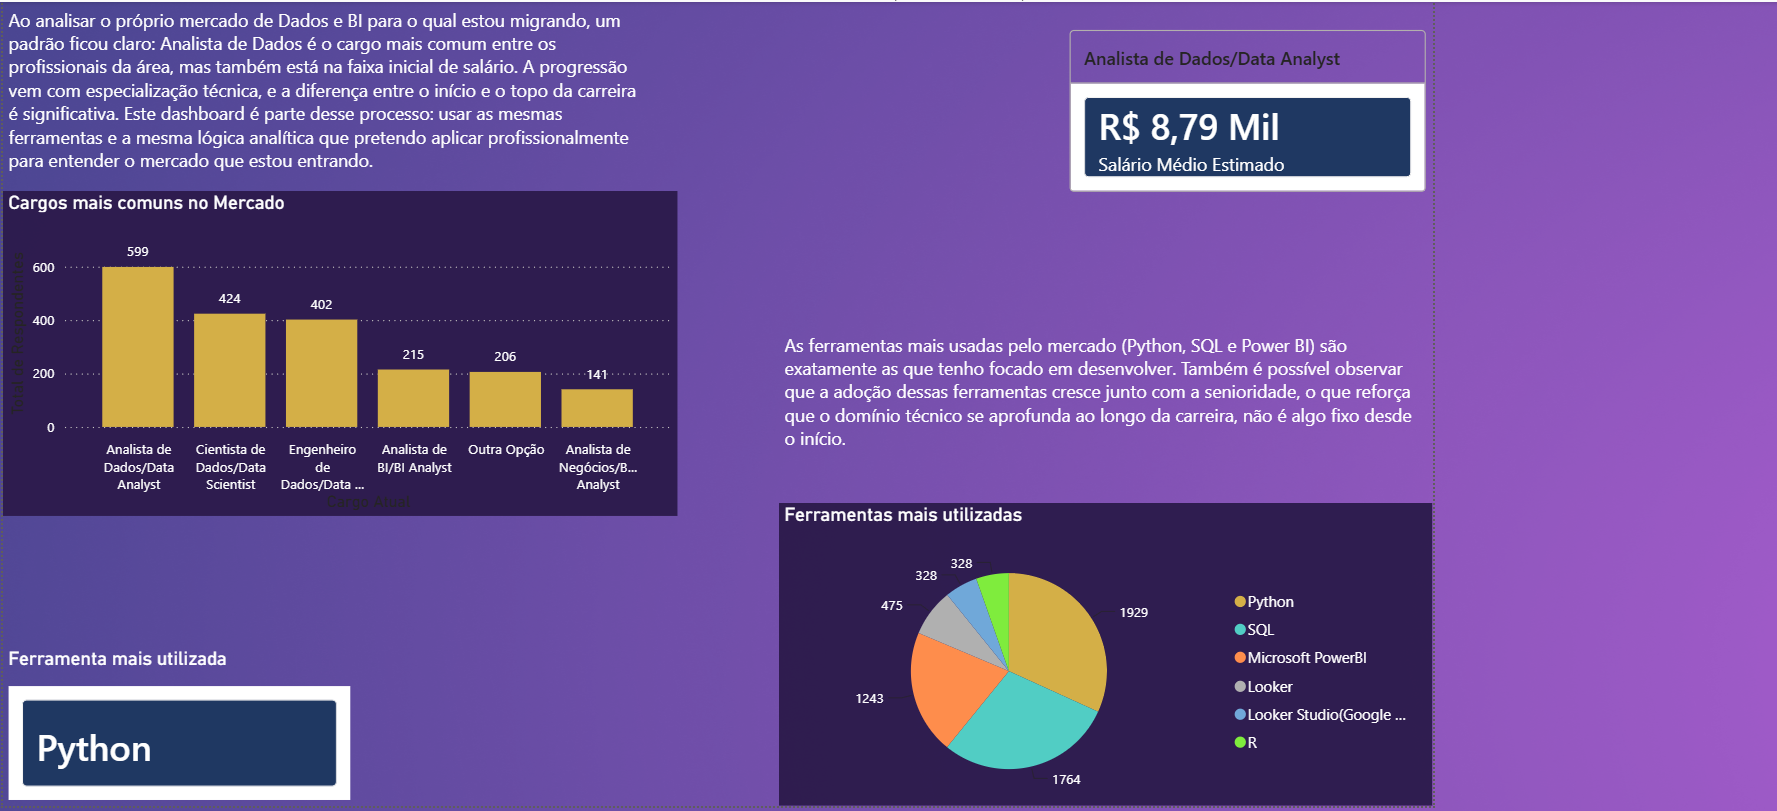

The page's visual inventory and layout, read from the dashboard file:
{"tool":"powerbi","page":{"name":"Insight Pessoal","canvas":[1280,720],"ordinal":3},"visuals":[{"type":"columnChart","title":"Cargos mais comuns no Mercado","fields":{"Y":["_Medidas.Total de Respondentes"],"Category":["Final Dataset - State of Data 2025-2026 - Kaggle.Cargo Atual"]},"box":[0,169,603.9,291.3],"z":0},{"type":"textbox","box":[0,0,584,169],"z":1000},{"type":"cardVisual","fields":{"Rows":["Final Dataset - State of Data 2025-2026 - Kaggle.Cargo Atual"],"Data":["_Medidas.Salário Médio Estimado"]},"box":[950.4,0,329.6,195.6],"z":2000},{"type":"textbox","box":[695.3,291.3,584,169],"z":3000},{"type":"pieChart","title":"Ferramentas mais utilizadas","fields":{"Category":["fato_Ferramentas_Linguagens.Ferramenta de Linguagem"],"Y":["_Medidas.Qtd Usuários da Ferramenta"]},"box":[695.3,448.6,584.7,271.1],"z":4000},{"type":"cardVisual","title":"Ferramenta mais utilizada","fields":{"Data":["Min(fato_Ferramentas_Linguagens.Ferramenta de Linguagem)"]},"box":[0,577.3,316.8,142.5],"z":5000}]}

Visuals, with their boxes on the page's 1280x720 design canvas (x1, y1, x2, y2). These are canvas units, not pixel positions in the 1777x811 screenshot, which may show the page scaled, cropped or inside an application window:
"Cargos mais comuns no Mercado" columnChart: [left=0, top=169, right=604, bottom=460]
textbox: [left=0, top=0, right=584, bottom=169]
cardVisual - Final Dataset - State of Data 2025-2026 - Kaggle.Cargo Atual x _Medidas.Salário Médio Estimado: [left=950, top=0, right=1280, bottom=196]
textbox: [left=695, top=291, right=1279, bottom=460]
"Ferramentas mais utilizadas" pieChart: [left=695, top=449, right=1280, bottom=720]
"Ferramenta mais utilizada" cardVisual: [left=0, top=577, right=317, bottom=720]
